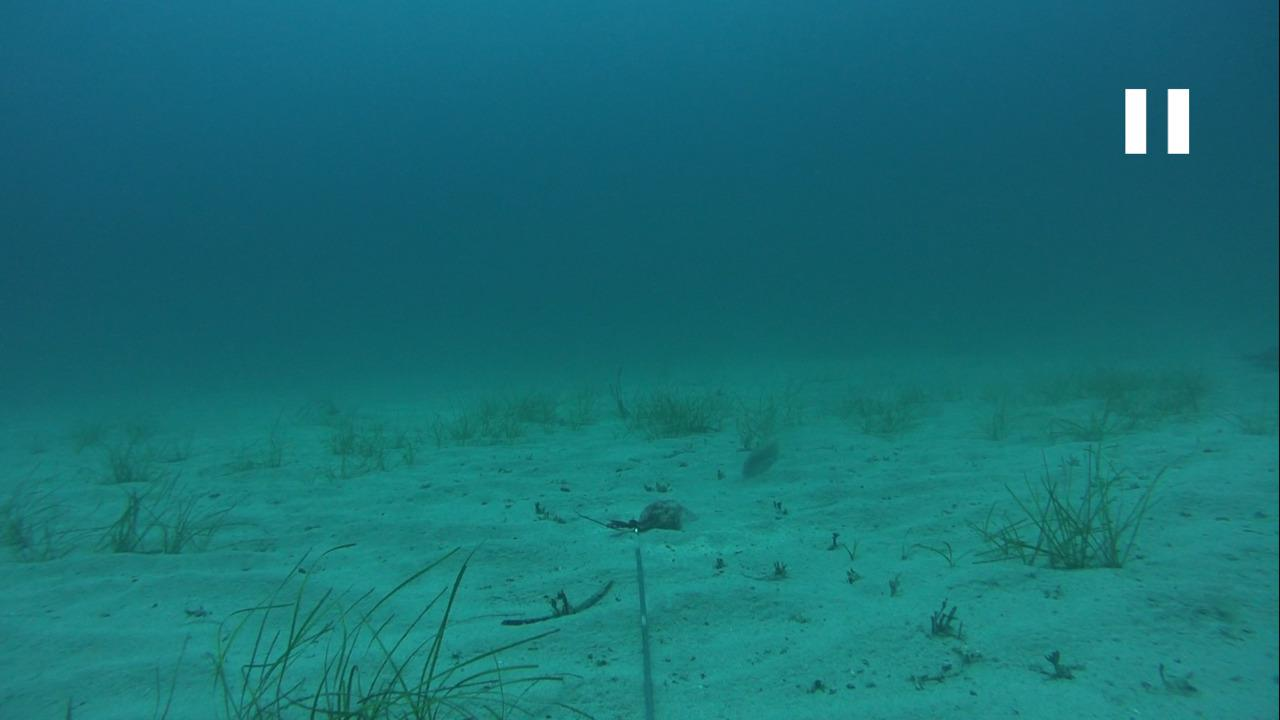myliobatis: (1226, 334, 1279, 377)
raor: (730, 438, 794, 482)
